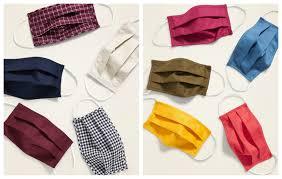cloth_mask: (71, 98, 132, 178), (1, 56, 78, 98), (145, 58, 225, 98)
